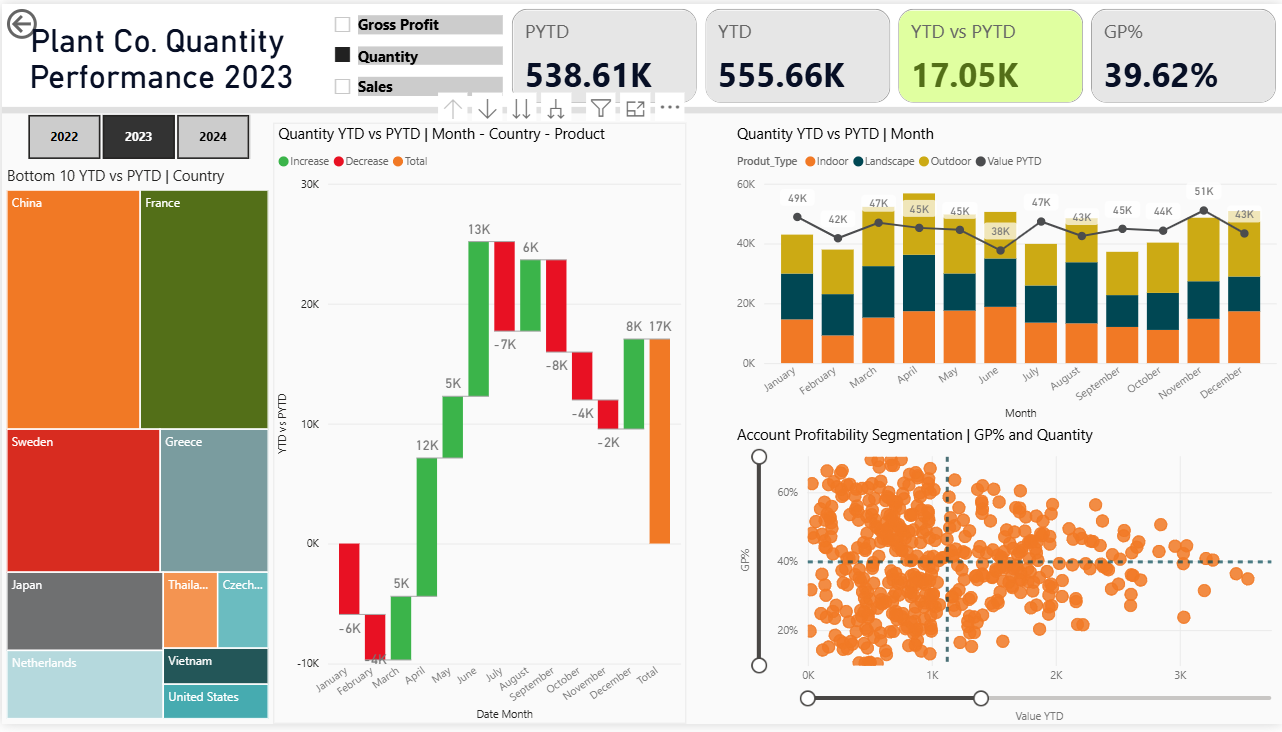

The page's visual inventory and layout, read from the dashboard file:
{"tool":"powerbi","page":{"name":"Page 1","canvas":[1280,720],"ordinal":0},"visuals":[{"type":"cardVisual","fields":{"Data":["_Measures.S_PYTD","_Measures.S_YTD","_Measures.YTD vs PYTD","_Measures.GP%"]},"box":[505,0,775.3,104.3],"z":0},{"type":"slicer","fields":{"Values":["Slc_Values.Values"]},"box":[319.7,0,185.8,103.8],"z":1000},{"type":"slicer","fields":{"Values":["Dim_Date.Date.Variation.Date Hierarchy.Year"]},"box":[0,103.8,271.4,57.9],"z":2000},{"type":"treemap","title":"Bottom 10 YTD vs PYTD | Country","fields":{"Group":["Dim_Account.country"],"Values":["_Measures.YTD vs PYTD"]},"box":[0,161.7,271.4,558.6],"z":3000},{"type":"waterfallChart","fields":{"Y":["_Measures.YTD vs PYTD"],"Category":["Dim_Date.Date.Variation.Date Hierarchy.Month","Dim_Account.country","Dim_Product.Produt_Type","Dim_Product.Product_Name"]},"box":[271.4,118.2,412.6,602],"z":4000},{"type":"actionButton","box":[0,0,100.1,39.8],"z":5000},{"type":"lineStackedColumnComboChart","fields":{"Category":["Dim_Date.Date.Variation.Date Hierarchy.Quarter","Dim_Date.Date.Variation.Date Hierarchy.Month"],"Y":["_Measures.S_YTD"],"Y2":["_Measures.S_PYTD"],"Series":["Dim_Product.Produt_Type"]},"box":[729.9,118.2,550.1,301.6],"z":6000},{"type":"scatterChart","fields":{"X":["_Measures.S_YTD"],"Y":["_Measures.GP%"],"Category":["Dim_Account.Account"]},"box":[729.9,419.8,550.1,300.4],"z":7000},{"type":"card","fields":{"Values":["_Measures._Report title"]},"box":[0,0,319.7,103.8],"z":8000}]}

Visuals, with their boxes in screenshot pixels (x1, y1, x2, y2), scaled from the page's 1280x720 canvas onto the 1282x732 screenshot:
cardVisual - _Measures.S_PYTD x _Measures.S_YTD: detection(506, 0, 1281, 106)
slicer - Slc_Values.Values: detection(320, 0, 506, 106)
slicer - Dim_Date.Date.Variation.Date Hierarchy.Year: detection(0, 106, 272, 164)
"Bottom 10 YTD vs PYTD | Country" treemap: detection(0, 164, 272, 731)
waterfallChart - _Measures.YTD vs PYTD x Dim_Date.Date.Variation.Date Hierarchy.Month: detection(272, 120, 685, 731)
actionButton: detection(0, 0, 100, 40)
lineStackedColumnComboChart - Dim_Date.Date.Variation.Date Hierarchy.Quarter x Dim_Date.Date.Variation.Date Hierarchy.Month: detection(731, 120, 1281, 427)
scatterChart - _Measures.S_YTD x _Measures.GP%: detection(731, 427, 1281, 731)
card - _Measures._Report title: detection(0, 0, 320, 106)
